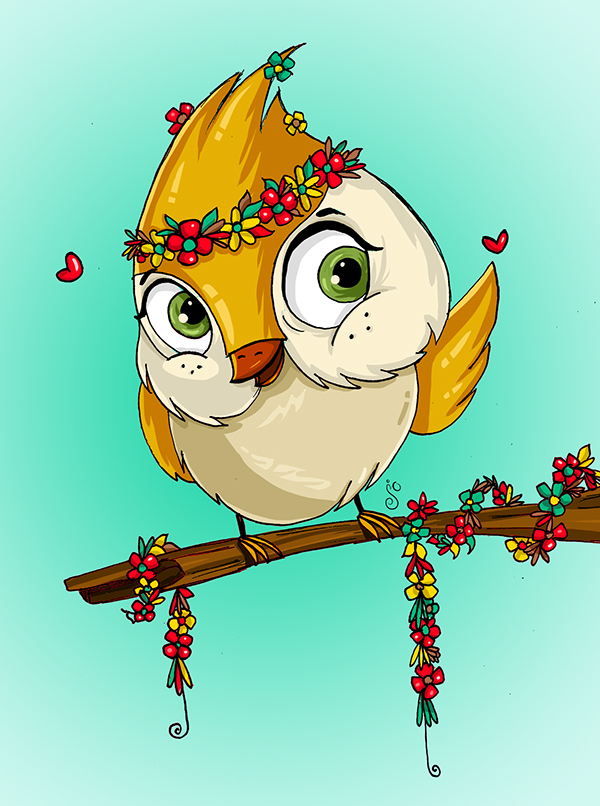bird: (100, 60, 500, 560)
